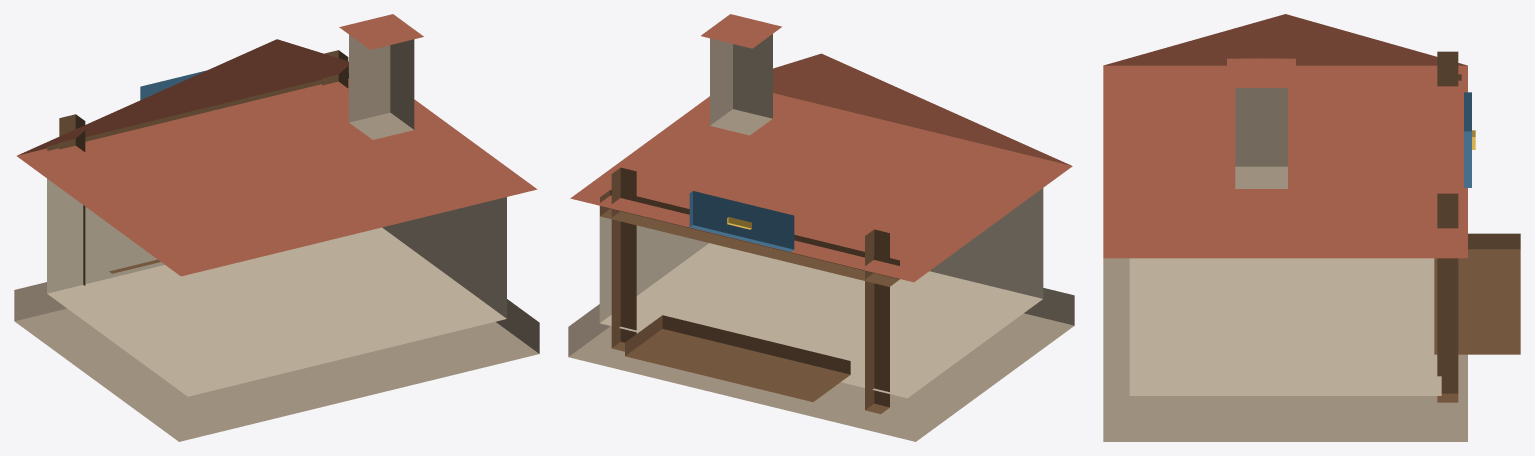
File: ResourceDropoff_authoring.glb
The picture shows the model from 3 angles, left to right: view 1: azimuth 30°, elevation 25°; view 2: azimuth 150°, elevation 25°; view 3: azimuth 270°, elevation 25°; orthographic projection. The views are drawn at different scales.
Parts seen in each view (by area): view 1: ResourceDropoff_authoring; view 2: ResourceDropoff_authoring; view 3: ResourceDropoff_authoring.
Boxes of the visible parts, box(x1,y1,x2,y2) form: ResourceDropoff_authoring: box(14, 14, 539, 441); ResourceDropoff_authoring: box(568, 14, 1074, 441); ResourceDropoff_authoring: box(1103, 14, 1520, 441).
Bounding box in the file's own units: 4.8 × 3.88 × 4.35.
